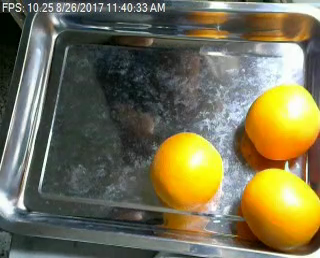Orange: (242, 168, 320, 251), (244, 83, 319, 160), (149, 132, 222, 210)
